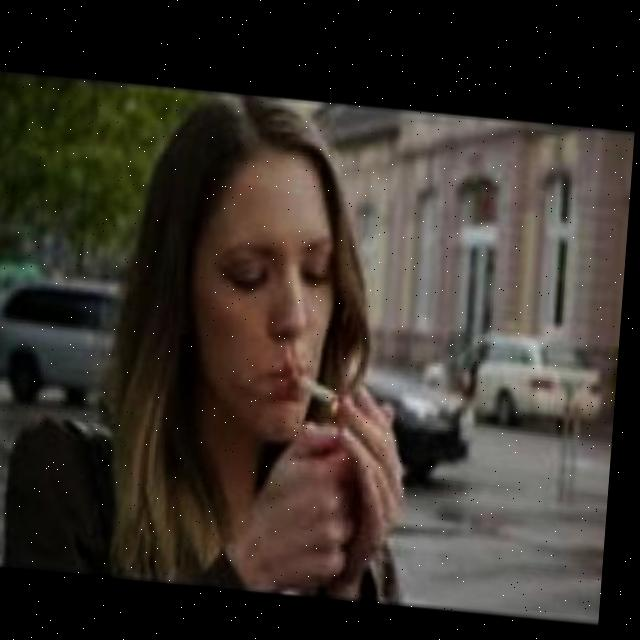cigarette: (293, 368, 345, 402)
